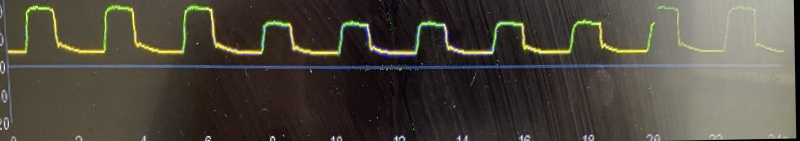normal_pressure: (1, 3, 787, 70)
